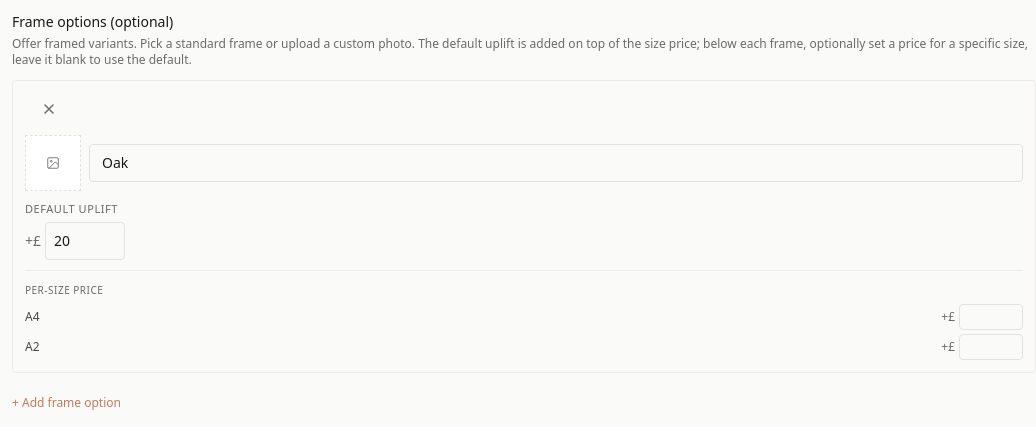
Test case: <FrameOptionsEditor /> › shows a default-derived placeholder per size, writes pricesBySize on input, and clears it back
Type "55" into the number field named "A2 frame price" at {"x": 991, "y": 346}, box x1=959 y1=334 x2=1023 y2=360
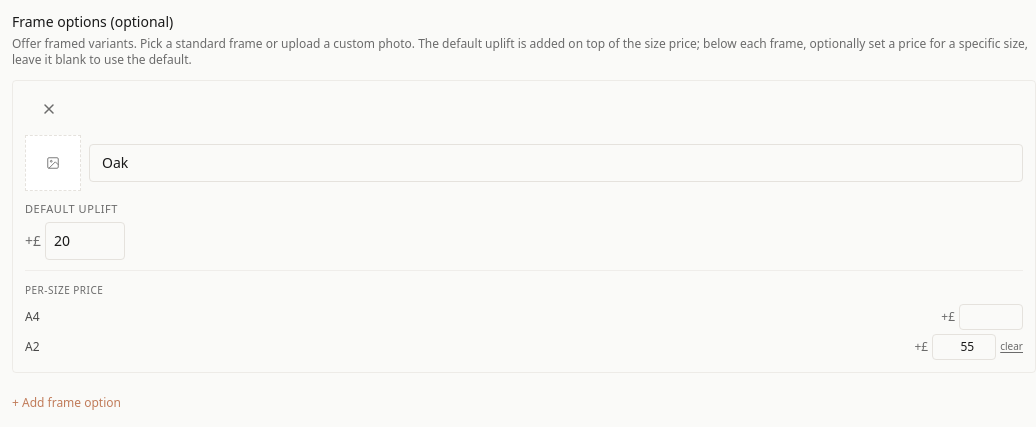
Expected: the button "clear" is shown
Click the button "clear" at {"x": 1012, "y": 346}, box x1=1000 y1=339 x2=1023 y2=354
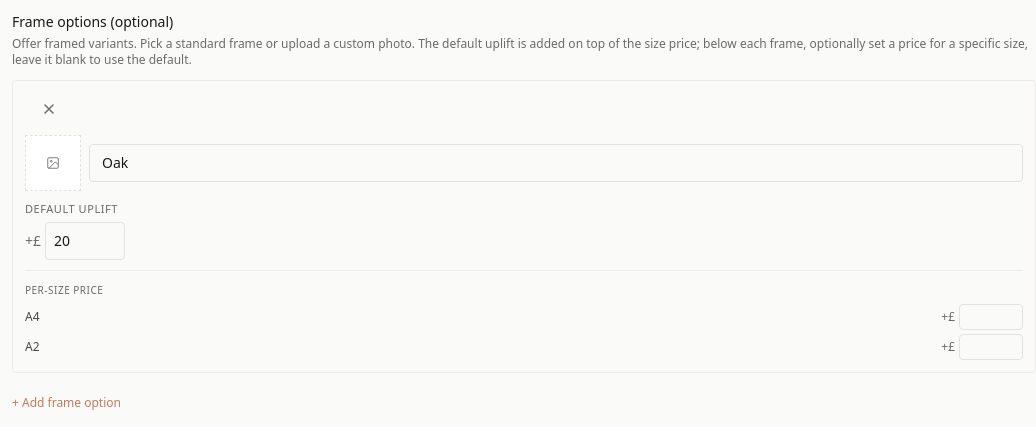
Expected: the number field named "A2 frame price" is empty, x1=959 y1=334 x2=1023 y2=360
Expected: the button "clear" is gone
